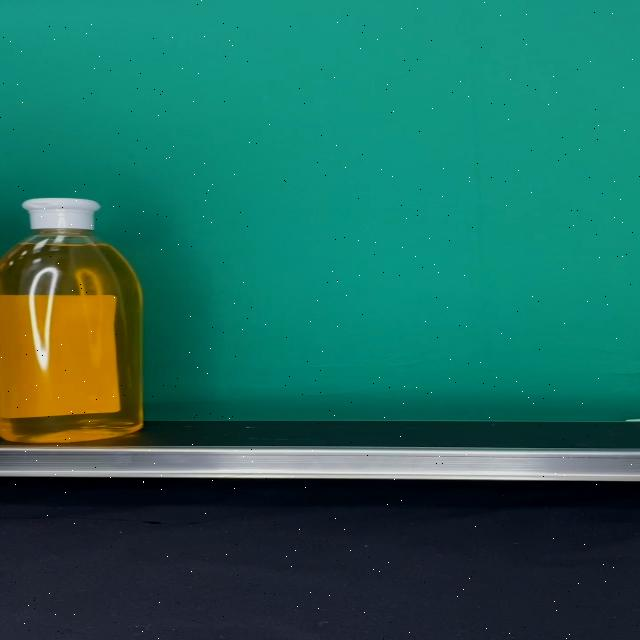Bottle: (0, 198, 143, 442)
Cap: (21, 198, 100, 230)
